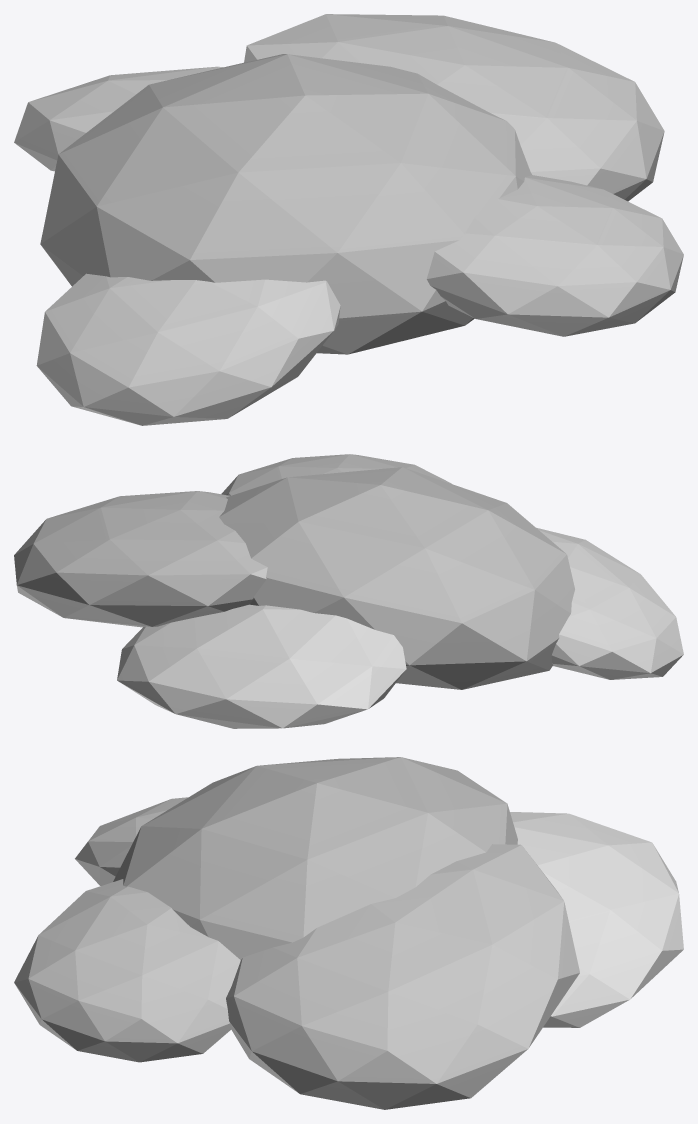
File: Cloud.glb
3 renders of one model, top to bottom at view 1: azimuth 30°, elevation 25°; view 2: azimuth 150°, elevation 25°; view 3: azimuth 270°, elevation 25°, orthographic. The views are drawn at different scales.
Visible parts, largest first — view 1: Cloud; view 2: Cloud; view 3: Cloud.
Part boxes in pixels (x1,y1,x2,y2): Cloud: (14, 14, 683, 425); Cloud: (14, 454, 683, 728); Cloud: (14, 757, 683, 1109).
Bounding box in the file's own units: 29.08 × 8.36 × 26.24.
Materials: 1 (1 with a texture image).
